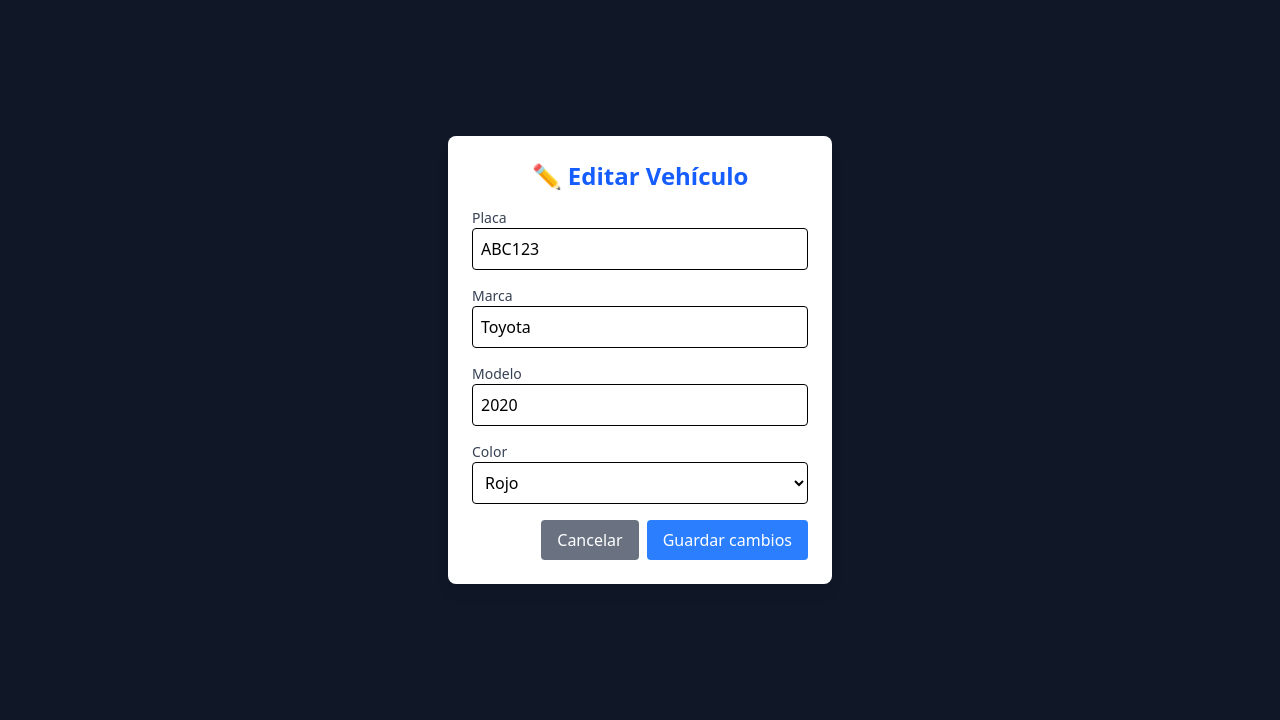
Test: EditVehicle Component - Error Handling › shows an error if 'placa' exceeds 6 characters
Replace the text in the field labelled "Placa" with "ABCDEFG" at (640, 249), box [472,228,808,270]
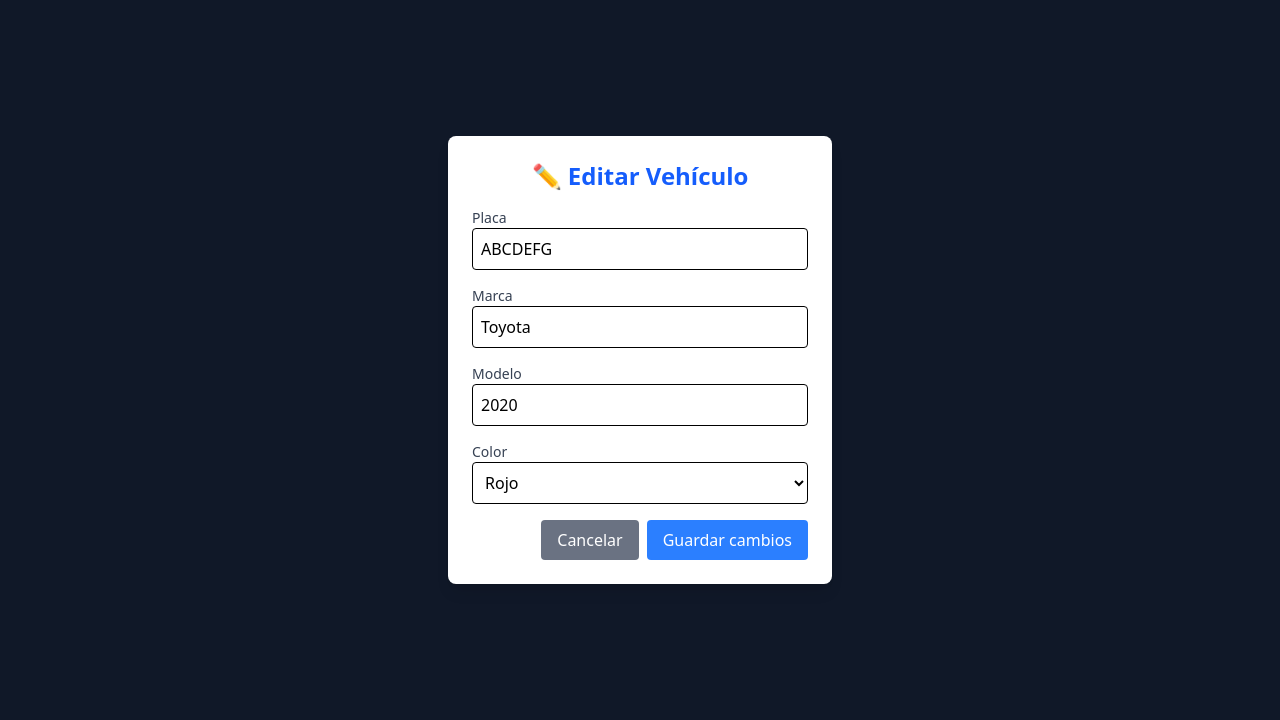
Click the button "Guardar cambios".
click(727, 540)  # box [647,520,808,560]
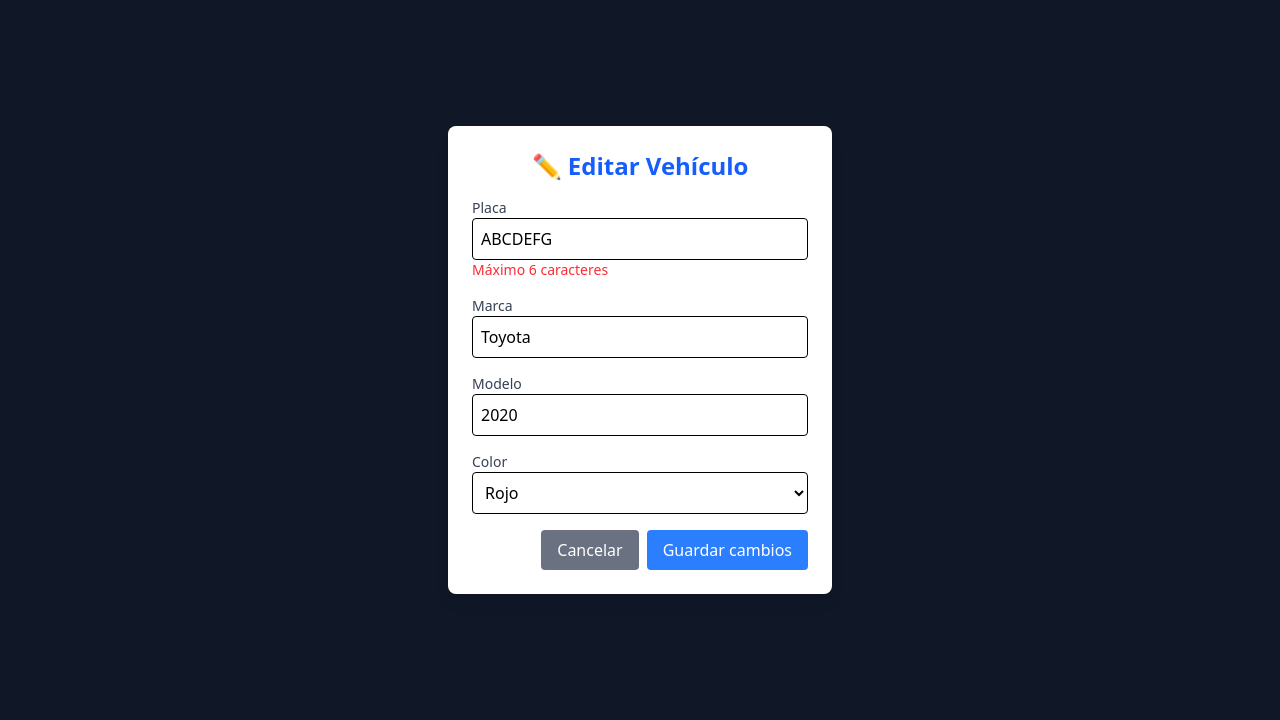
Now the text "Máximo 6 caracteres" is shown, box [472,260,608,279]
